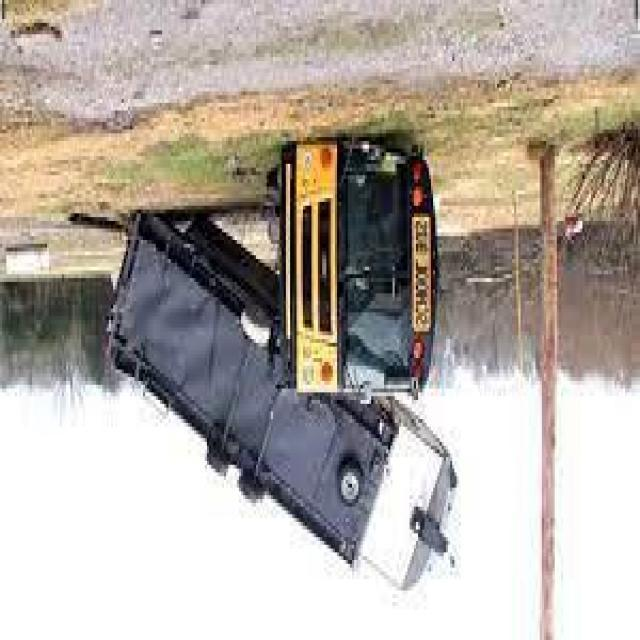severe: (100, 133, 465, 587)
